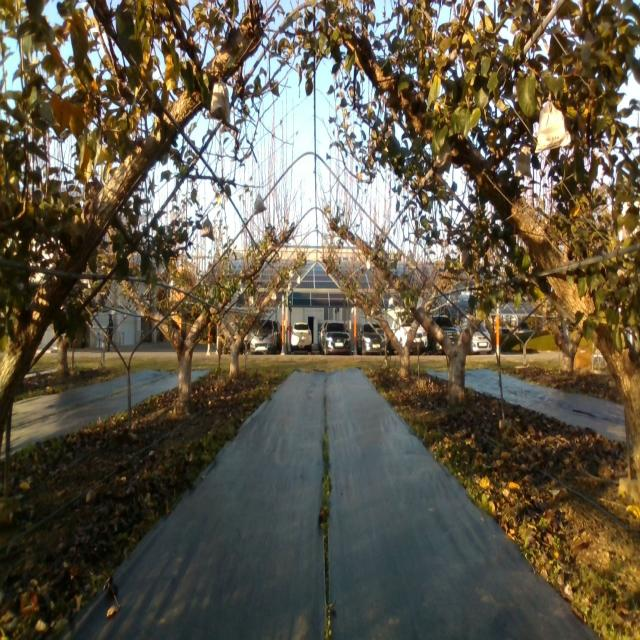pearbags: (535, 96, 571, 152), (210, 80, 230, 124), (515, 145, 532, 180), (202, 214, 214, 241), (253, 192, 266, 215), (406, 250, 417, 271)
